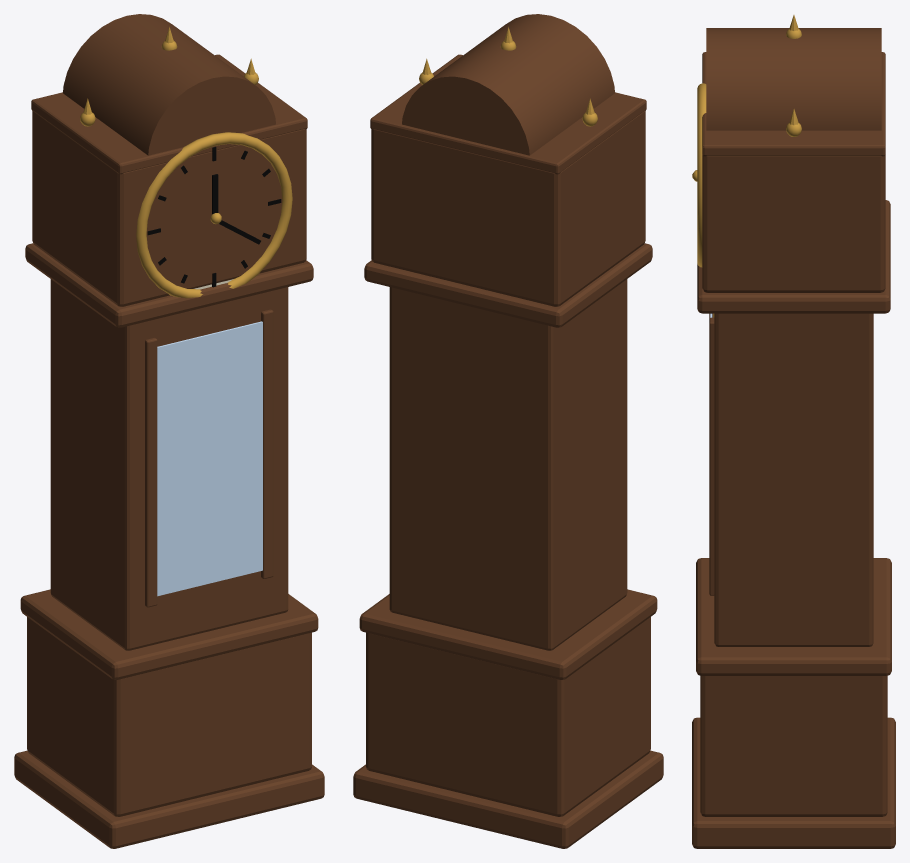
Rendered from grandfather_clock.glb.
The picture shows the model from 3 angles, left to right: view 1: azimuth 30°, elevation 25°; view 2: azimuth 150°, elevation 25°; view 3: azimuth 270°, elevation 25°; orthographic projection. The views are drawn at different scales.
Parts seen in each view (by area): view 1: grandfather_clock; view 2: grandfather_clock; view 3: grandfather_clock.
Part boxes in pixels (box(x1,y1,x2,y2)): grandfather_clock: box(14, 14, 324, 848); grandfather_clock: box(353, 14, 663, 848); grandfather_clock: box(692, 15, 895, 848).
Bounding box in the file's own units: 0.5 × 1.7 × 0.4.
